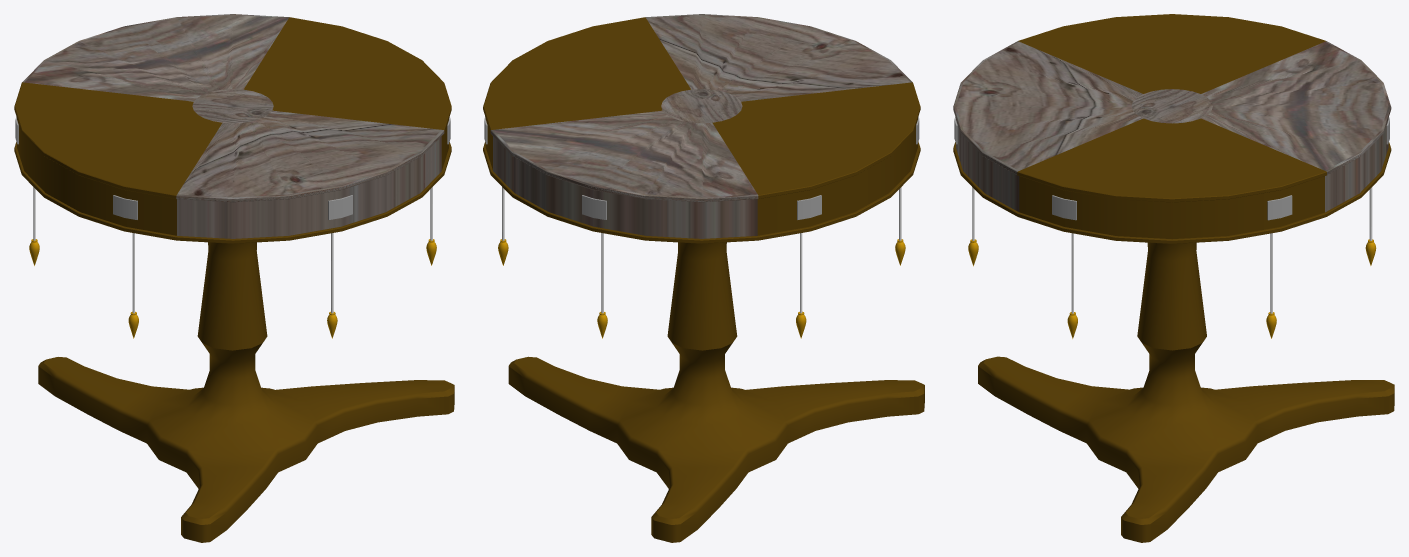
File: model_Lounge_Table.fbx
3 renders of one model, left to right at view 1: azimuth 30°, elevation 25°; view 2: azimuth 150°, elevation 25°; view 3: azimuth 270°, elevation 25°, orthographic.
Visible parts, largest first — view 1: mesh_Table_Top_Segment_Top (×4), mesh_Table_Leg, mesh_Table_Top_Segment_Base (×2), mesh_Table_Top_Bottom1, mesh_Pedestal_Top; view 2: mesh_Table_Top_Segment_Top (×4), mesh_Table_Leg, mesh_Table_Top_Segment_Base (×2), mesh_Table_Top_Bottom1, mesh_Pedestal_Top; view 3: mesh_Table_Top_Segment_Top (×4), mesh_Table_Leg, mesh_Table_Top_Segment_Base (×3), mesh_Table_Top_Bottom1, mesh_Pedestal_Top, mesh_Symbol_Plate1.
Part boxes in pixels (box(x1,y1,x2,y2)): mesh_Table_Top_Segment_Top (×4): box(14, 14, 451, 202); mesh_Table_Leg: box(38, 242, 454, 542); mesh_Table_Top_Segment_Base (×2): box(17, 119, 441, 238); mesh_Table_Top_Bottom1: box(14, 142, 451, 243); mesh_Pedestal_Top: box(192, 89, 273, 123); mesh_Table_Top_Segment_Top (×4): box(483, 14, 920, 202); mesh_Table_Leg: box(508, 242, 924, 542); mesh_Table_Top_Segment_Base (×2): box(493, 118, 917, 238); mesh_Table_Top_Bottom1: box(483, 141, 920, 243); mesh_Pedestal_Top: box(661, 89, 742, 123); mesh_Table_Top_Segment_Top (×4): box(953, 14, 1391, 202); mesh_Table_Leg: box(978, 242, 1394, 542); mesh_Table_Top_Segment_Base (×3): box(956, 118, 1388, 239); mesh_Table_Top_Bottom1: box(953, 142, 1391, 243); mesh_Pedestal_Top: box(1131, 89, 1212, 123); mesh_Symbol_Plate1: box(1267, 195, 1292, 220).
Size of the model in its own units: 86.91 by 70.45 by 83.9.
Materials: 7 (1 with a texture image).
